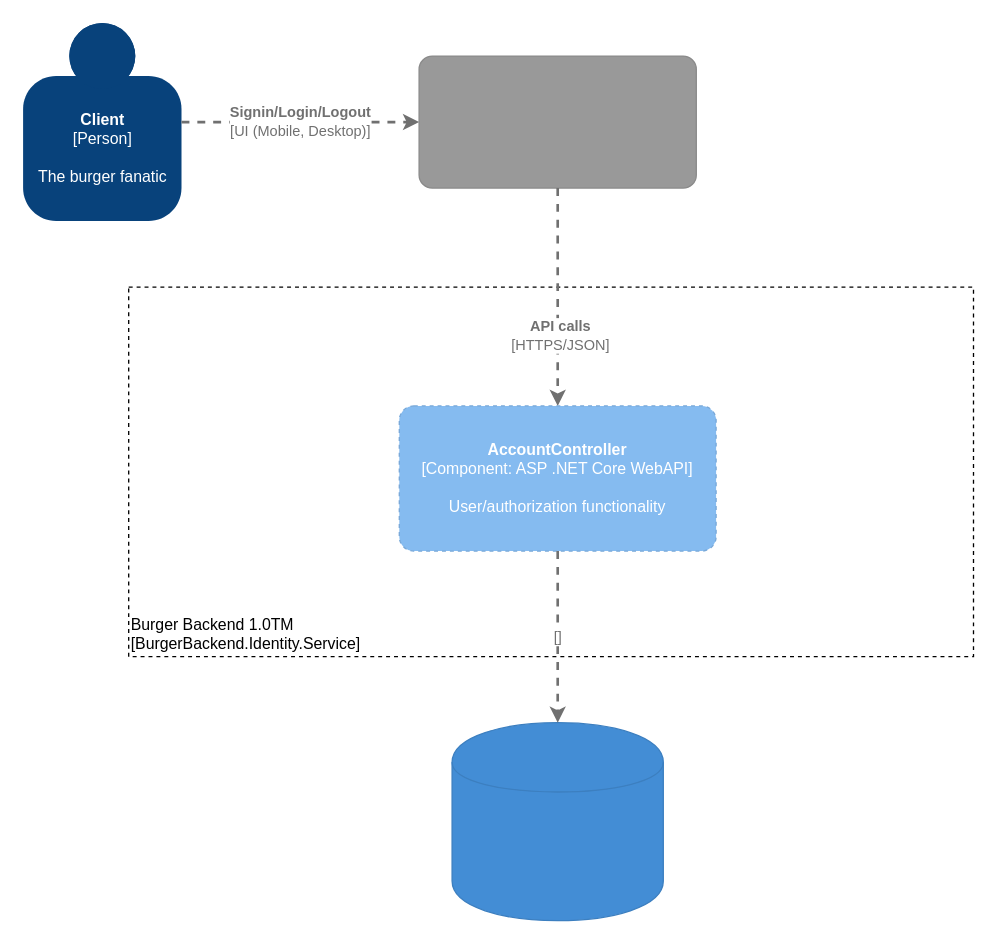
The diagram is 997 pixels wide and 944 high, and some of its shapes have lost their labels. Each missing label, with the centre of its shape:
Client UI [Software System] The 3rd party UI provider: point 557,121
Database [Container: MSSQL] Encrypted user data: point 557,821
